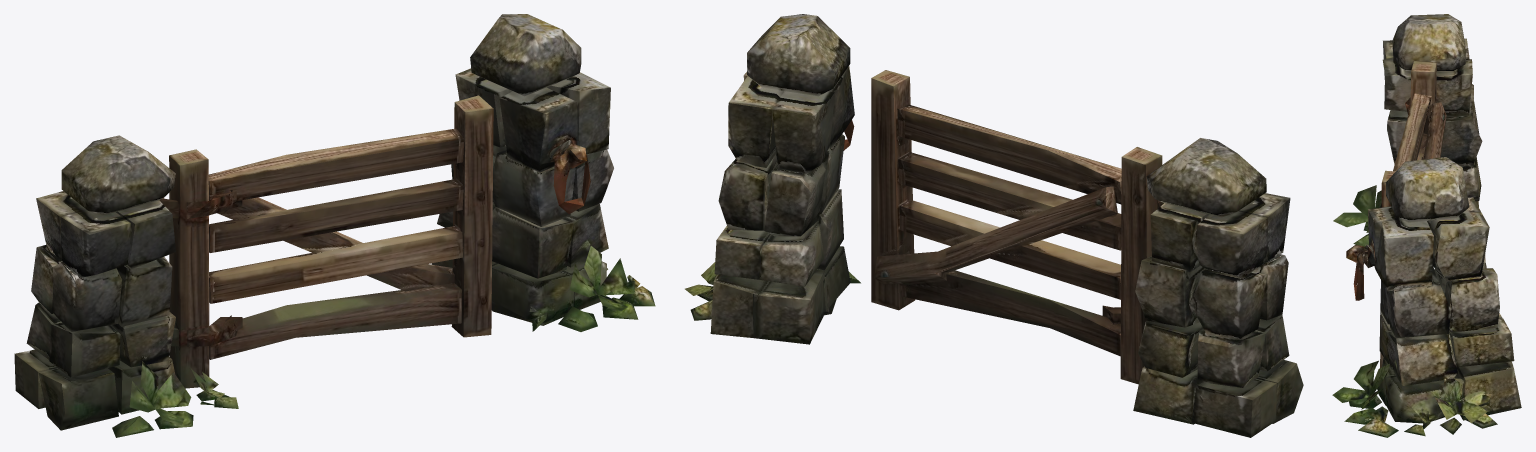
The model's file is act1_kit_v1_field_gate.glb.
3 renders of one model, left to right at view 1: azimuth 30°, elevation 25°; view 2: azimuth 150°, elevation 25°; view 3: azimuth 270°, elevation 25°, orthographic. The views are drawn at different scales.
Parts seen in each view (by area): view 1: A08_5_field_gate; view 2: A08_5_field_gate; view 3: A08_5_field_gate.
Part boxes in pixels (box(x1,y1,x2,y2)): A08_5_field_gate: box(14, 14, 655, 437); A08_5_field_gate: box(685, 14, 1303, 437); A08_5_field_gate: box(1332, 14, 1521, 437).
Size of the model in its own units: 0.9867 by 0.4563 by 0.3298.
Materials: 1 (1 with a texture image).
